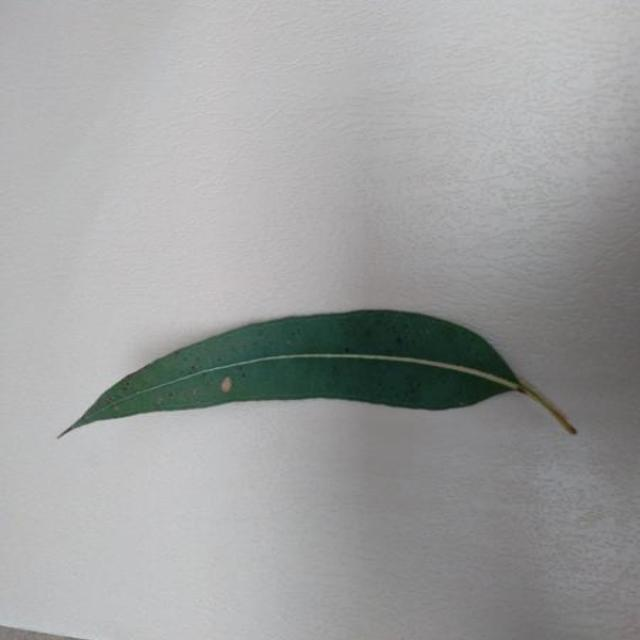eucalpytus: (60, 310, 577, 436)
